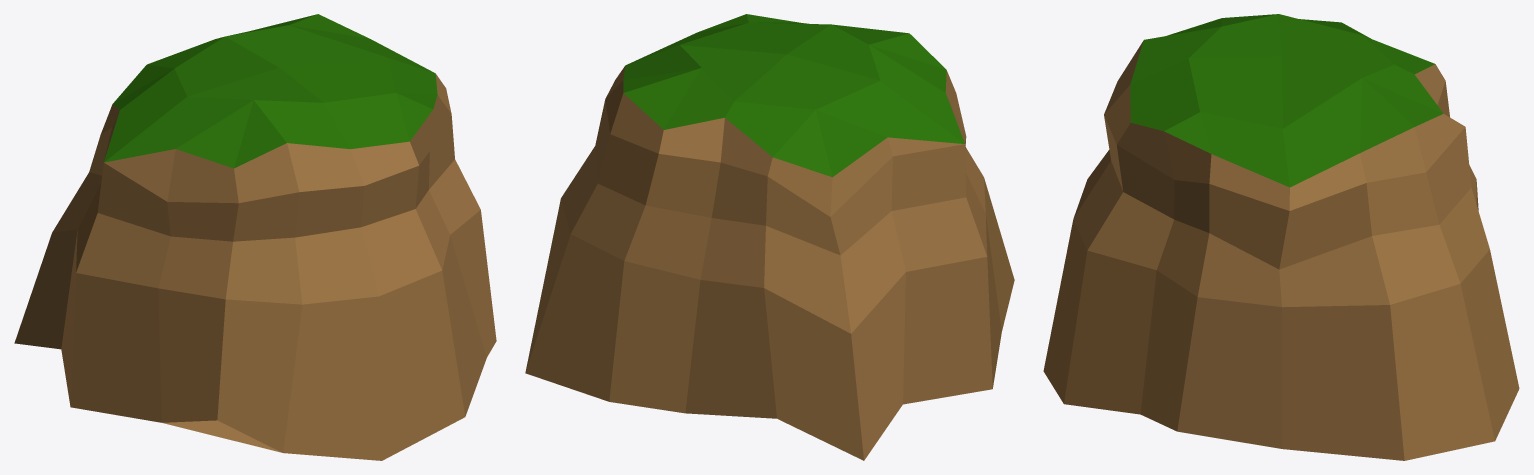
Rendered from DirtClod.fbx.
3 renders of one model, left to right at view 1: azimuth 30°, elevation 25°; view 2: azimuth 150°, elevation 25°; view 3: azimuth 270°, elevation 25°, orthographic. The views are drawn at different scales.
Parts seen in each view (by area): view 1: Cube; view 2: Cube; view 3: Cube.
Part boxes in pixels (<box>): Cube: <box>14,14,496,460</box>; Cube: <box>525,14,1014,460</box>; Cube: <box>1043,14,1519,460</box>.
Bounding box in the file's own units: 248 × 182 × 242.
